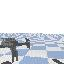drone: (0, 36, 31, 63)
